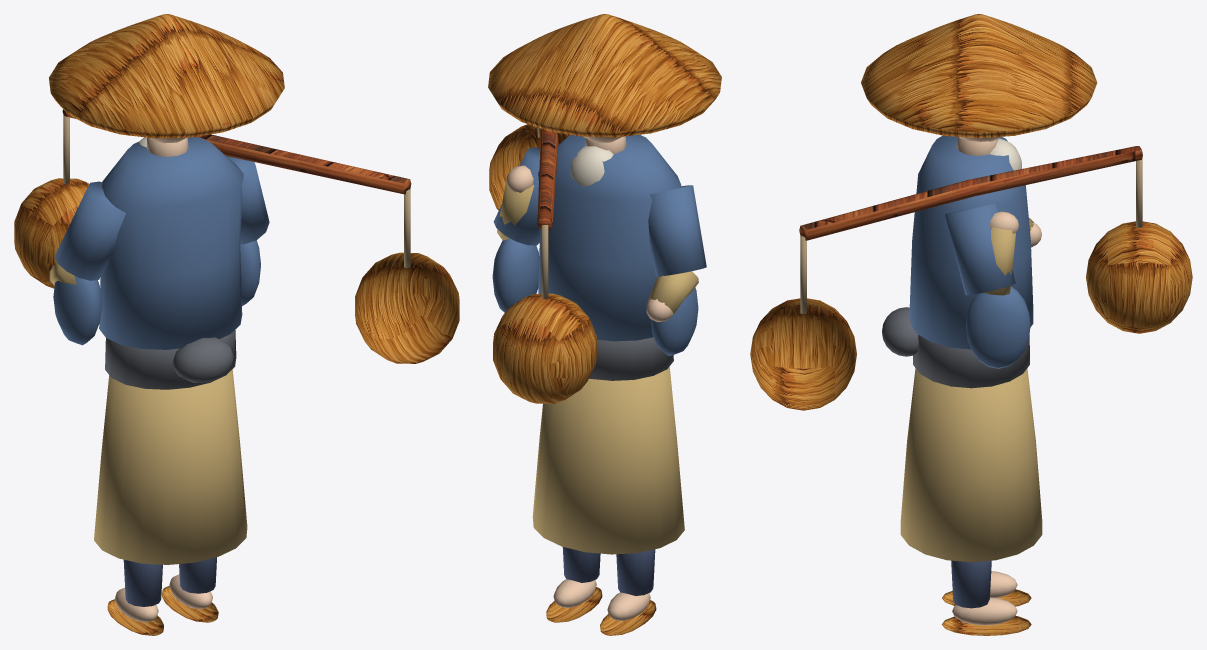
Rendered from edo_person_merchant.glb.
The picture shows the model from 3 angles, left to right: view 1: azimuth 30°, elevation 25°; view 2: azimuth 150°, elevation 25°; view 3: azimuth 270°, elevation 25°; orthographic projection.
Parts seen in each view (by area): view 1: person_upper, person_leg_l, person_leg_r; view 2: person_upper, person_leg_l, person_leg_r; view 3: person_upper, person_leg_r, person_leg_l.
Boxes of the visible parts, box(x1,y1,x2,y2) form: person_upper: box(14, 14, 459, 564); person_leg_l: box(107, 559, 163, 635); person_leg_r: box(162, 557, 218, 622); person_upper: box(488, 14, 721, 554); person_leg_l: box(600, 549, 656, 635); person_leg_r: box(546, 547, 602, 622); person_upper: box(750, 14, 1192, 562); person_leg_r: box(942, 560, 1031, 635); person_leg_l: box(942, 571, 1031, 606).
Bounding box in the file's own units: 0.9104 × 1.74 × 1.16.
Materials: 9 (2 with a texture image).
